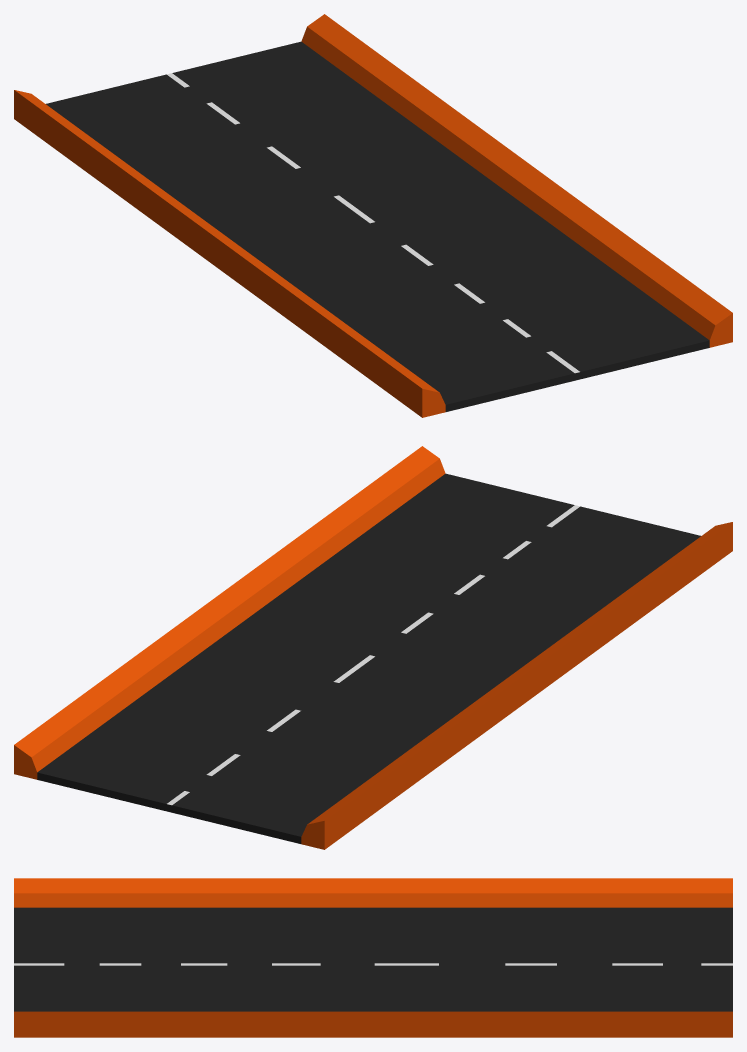
The model's file is Road.fbx.
3 renders of one model, top to bottom at view 1: azimuth 30°, elevation 25°; view 2: azimuth 150°, elevation 25°; view 3: azimuth 270°, elevation 25°, orthographic. The views are drawn at different scales.
Parts seen in each view (by area): view 1: Cube; view 2: Cube; view 3: Cube.
Part boxes in pixels (x1,y1,x2,y2): Cube: (14, 14, 732, 417); Cube: (14, 446, 732, 849); Cube: (14, 878, 732, 1037).
Size of the model in its own units: 1071 by 96.35 by 2438.
1 material, 1 textured.
